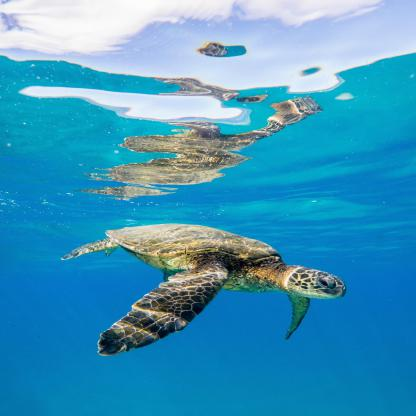turtle: (285, 259, 356, 306)
